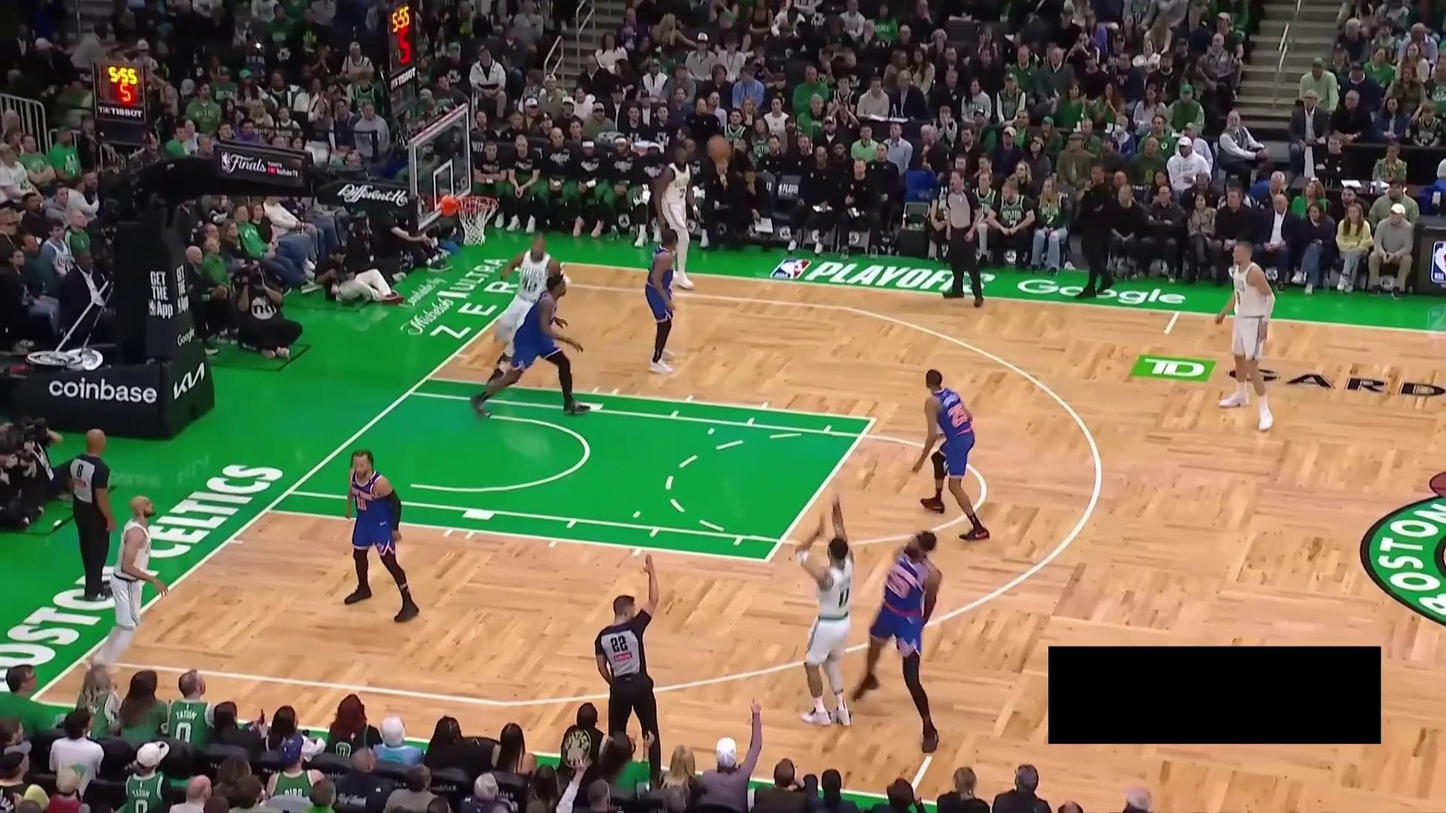ball: (703, 131, 731, 163)
number: (949, 401, 969, 428), (838, 584, 851, 609), (355, 494, 368, 512), (677, 185, 687, 199)
player: (850, 521, 956, 758), (468, 269, 595, 429), (81, 491, 173, 671), (790, 486, 857, 729), (1210, 233, 1286, 437), (342, 441, 426, 624), (905, 366, 990, 541), (482, 232, 568, 376), (651, 141, 697, 295), (643, 224, 688, 374)
referee: (592, 547, 666, 788), (59, 423, 117, 598), (943, 167, 989, 309)
rim: (451, 193, 501, 212)
